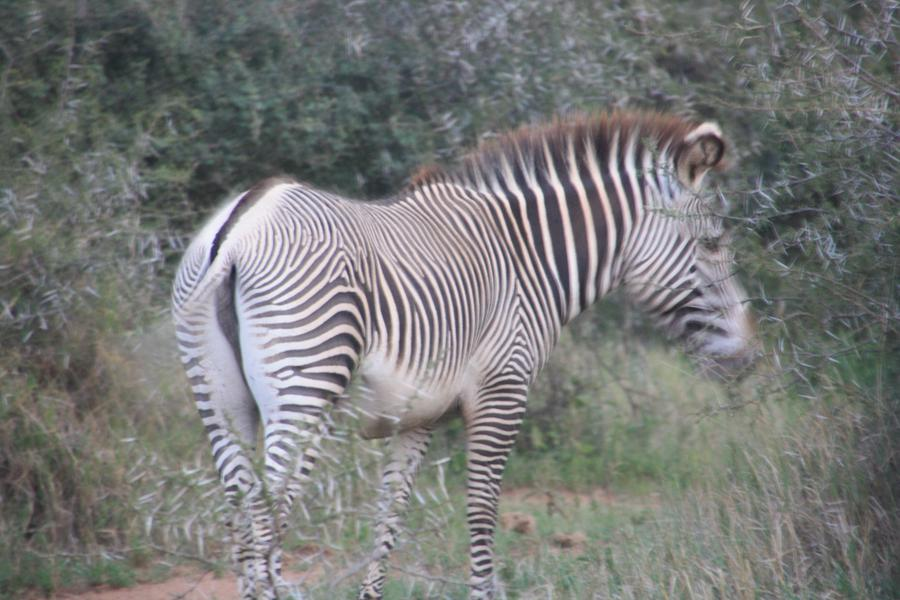zebra_grevys: (206, 184, 530, 390)
